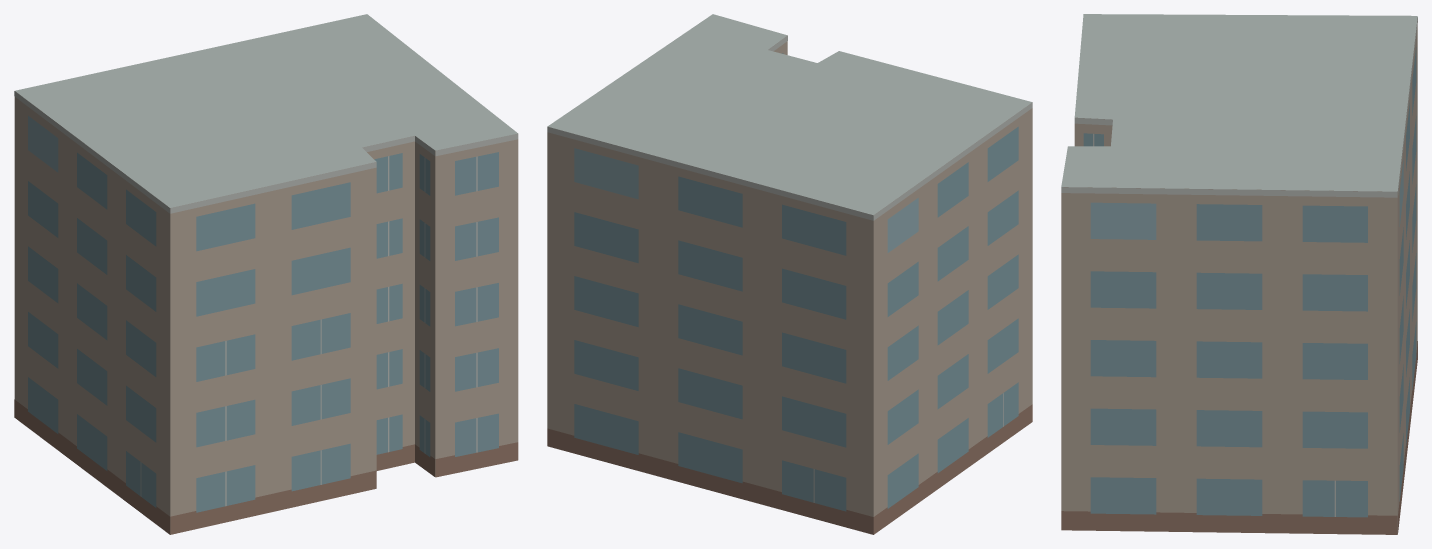
Rendered from survey-upis-32819417.glb.
3 renders of one model, left to right at view 1: azimuth 30°, elevation 25°; view 2: azimuth 150°, elevation 25°; view 3: azimuth 270°, elevation 25°, orthographic. The views are drawn at different scales.
Parts seen in each view (by area): view 1: survey-upis-32819417.tmp; view 2: survey-upis-32819417.tmp; view 3: survey-upis-32819417.tmp.
Boxes of the visible parts, x1=… form: survey-upis-32819417.tmp: x1=14, y1=14, x2=518, y2=534; survey-upis-32819417.tmp: x1=547, y1=14, x2=1032, y2=534; survey-upis-32819417.tmp: x1=1061, y1=14, x2=1417, y2=534.
Size of the model in its own units: 15.51 by 13.96 by 13.16.
